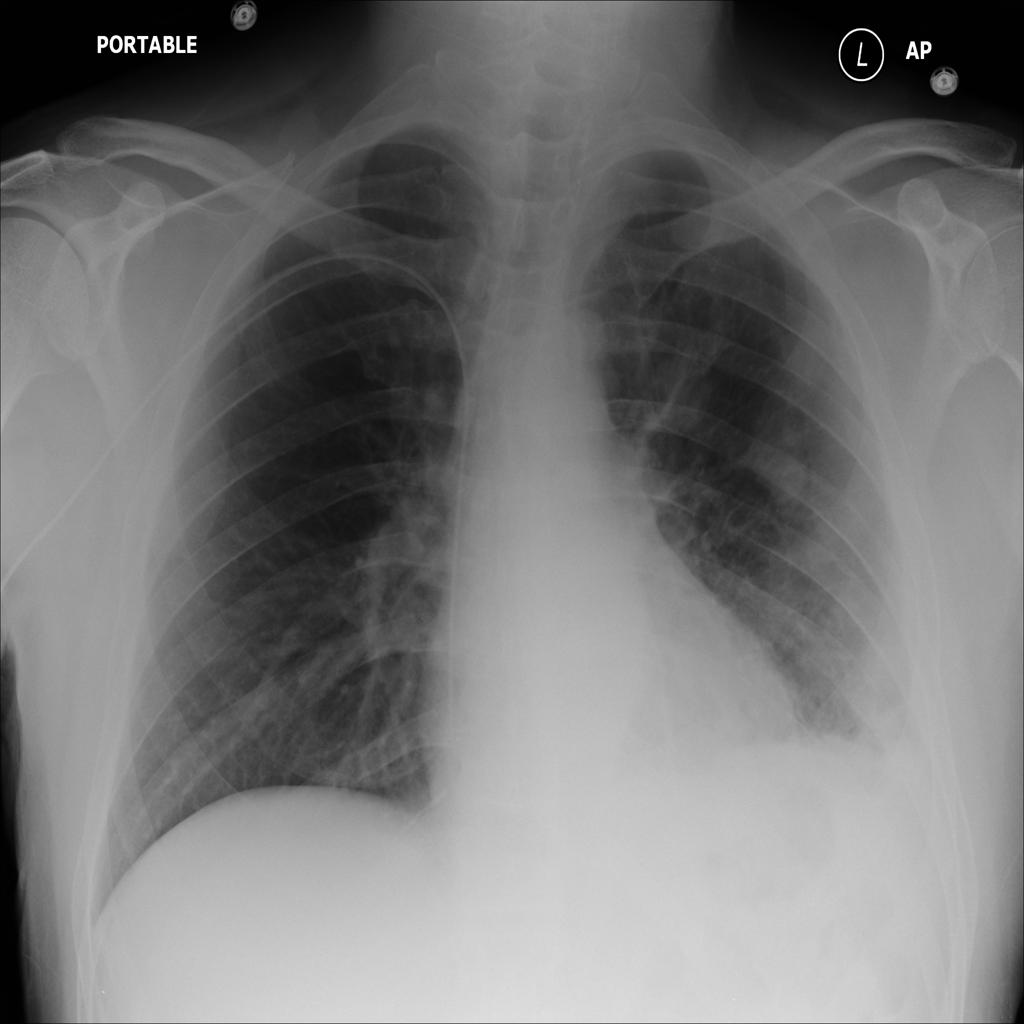nodule: (738, 399, 837, 529)
